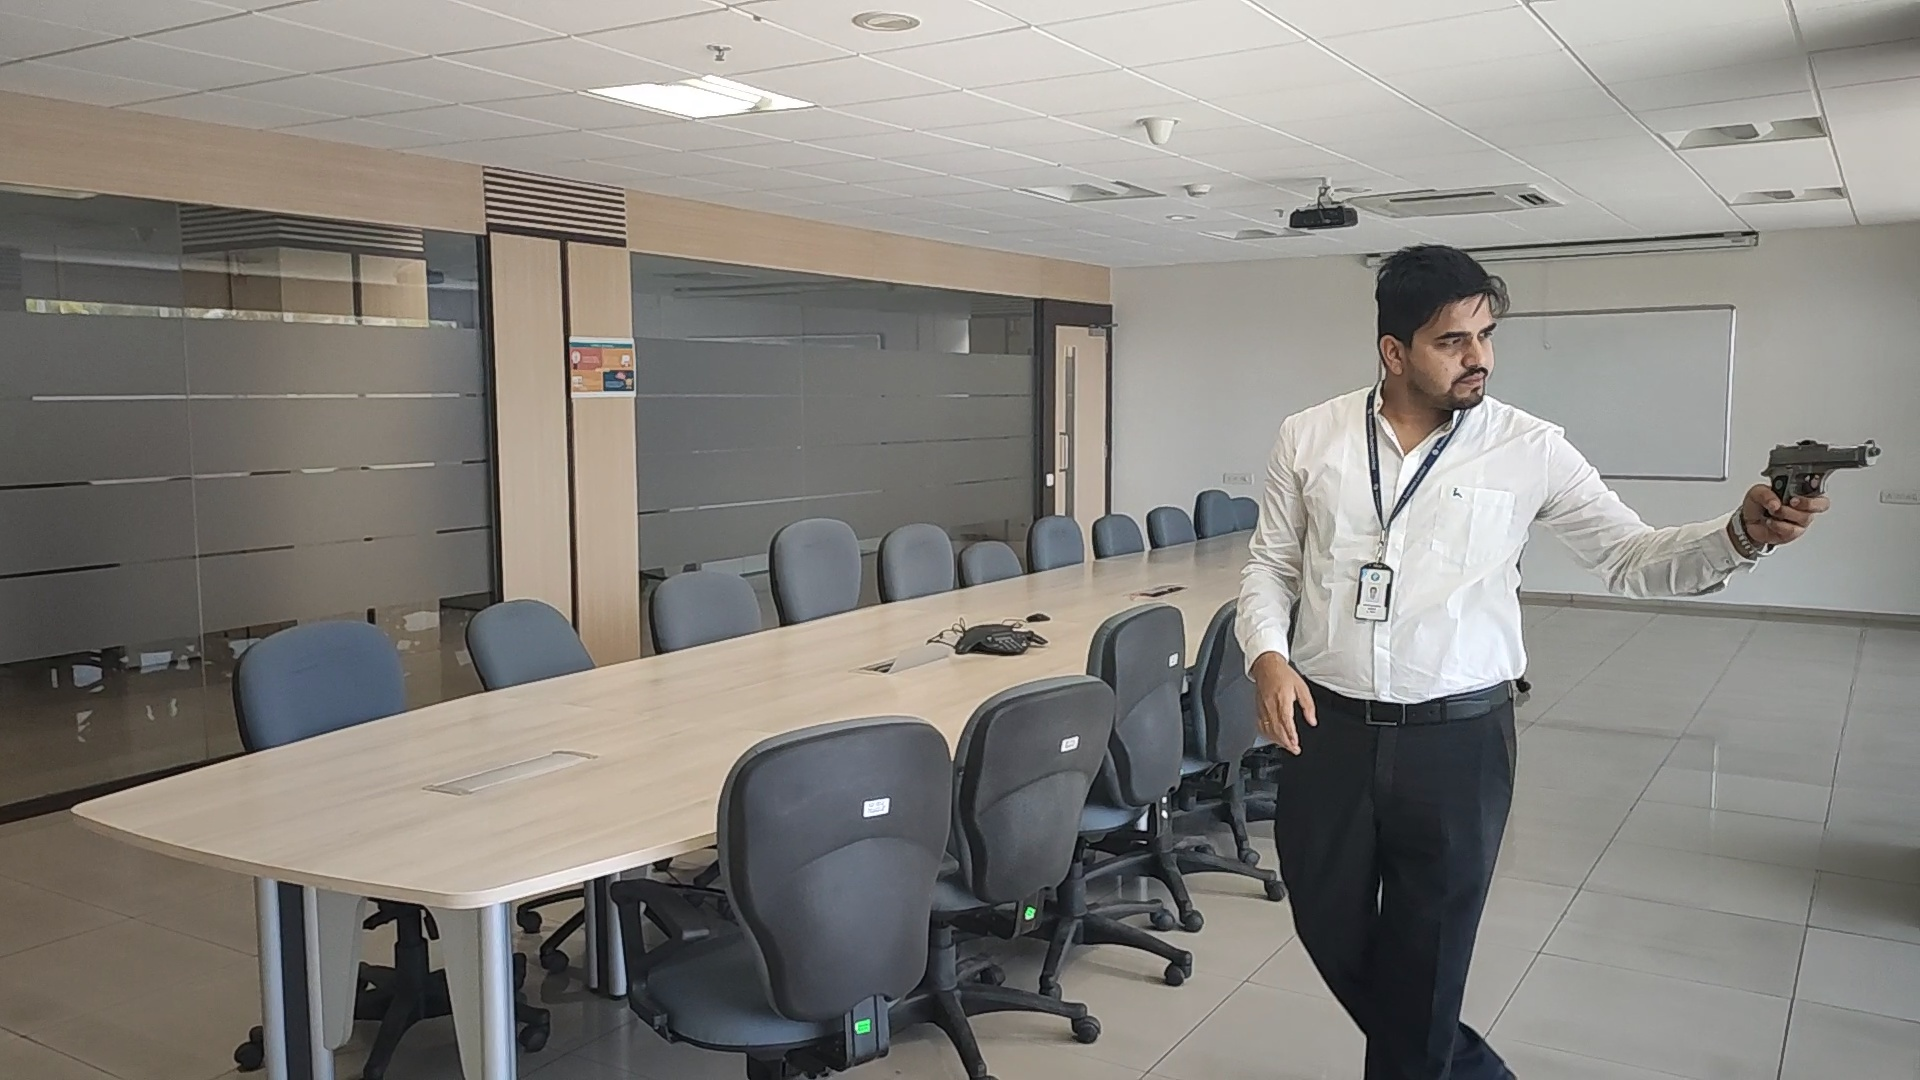gun: (1756, 436, 1884, 483)
